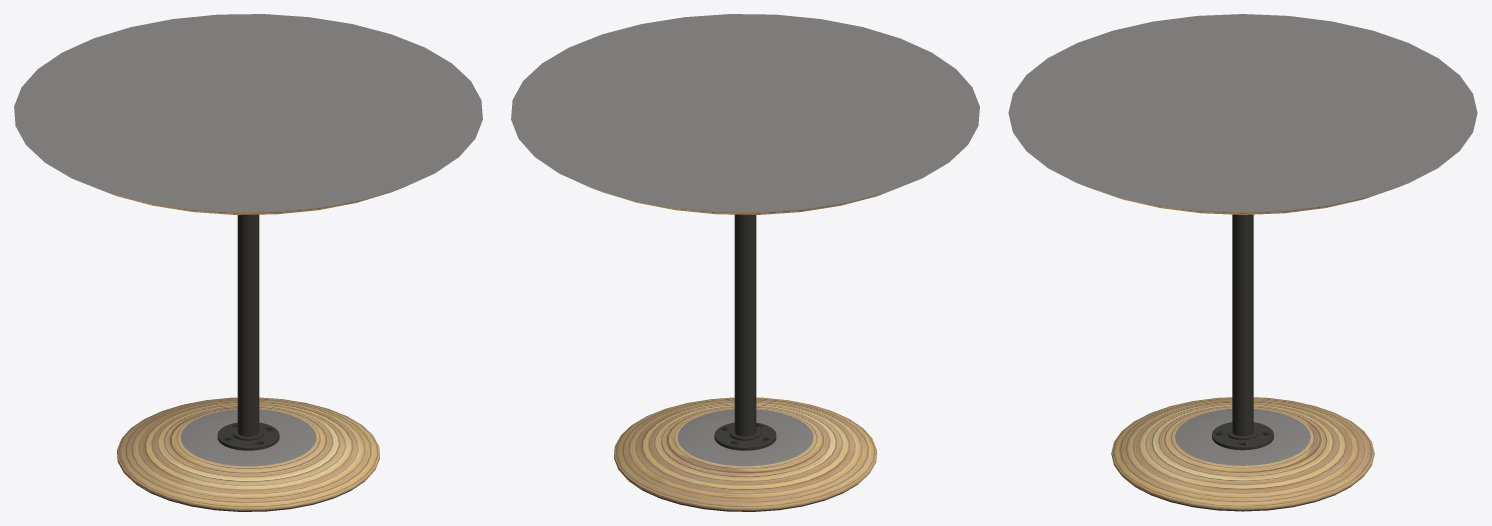
The model's file is 09_TulipTable_Gray.glb.
3 views of the same model, side by side, from view 1: azimuth 30°, elevation 25°; view 2: azimuth 150°, elevation 25°; view 3: azimuth 270°, elevation 25° (orthographic).
Visible parts, largest first — view 1: TulipTable_Gray_baseMesh; view 2: TulipTable_Gray_baseMesh; view 3: TulipTable_Gray_baseMesh.
Part boxes in pixels (x1,y1,x2,y2): TulipTable_Gray_baseMesh: (14, 14, 482, 511); TulipTable_Gray_baseMesh: (511, 14, 979, 511); TulipTable_Gray_baseMesh: (1008, 14, 1477, 511).
Size of the model in its own units: 0.8943 by 0.7238 by 0.8943.
2 materials, 2 textured.
